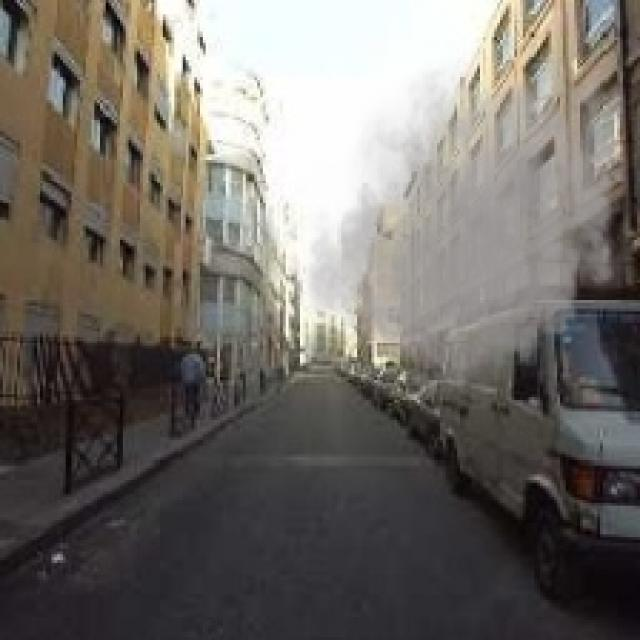smoke: (294, 48, 637, 406)
